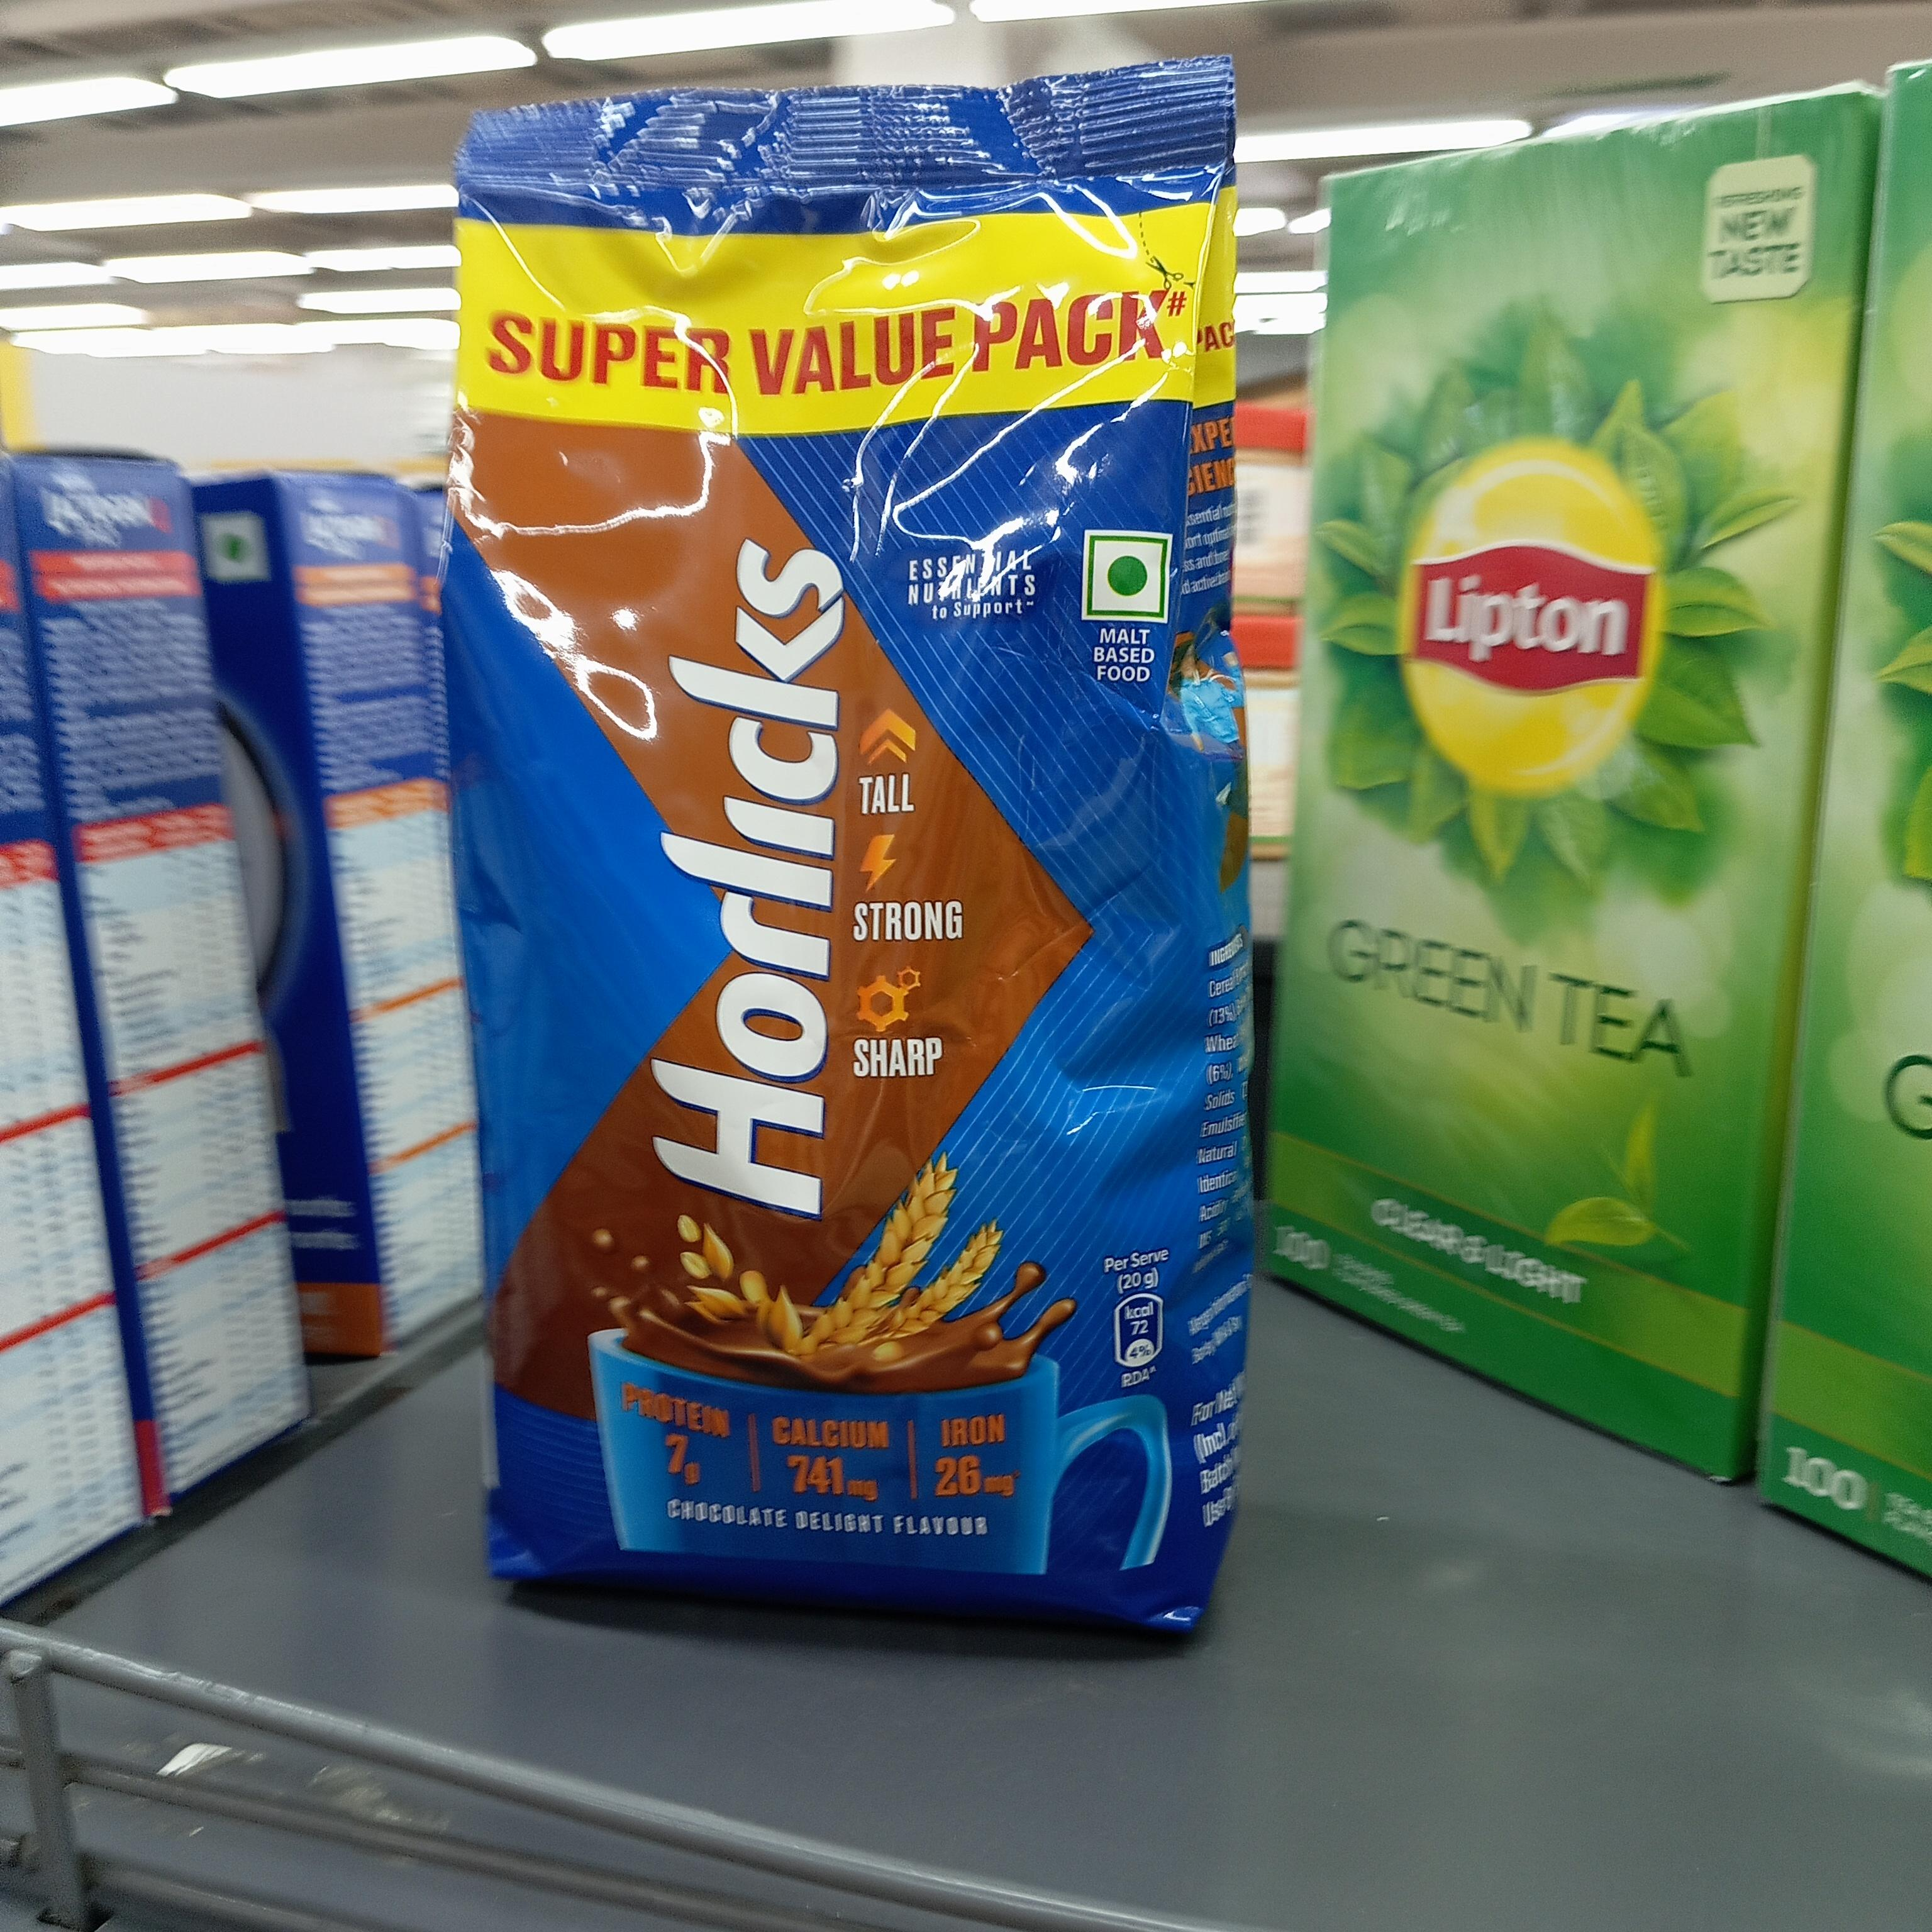HORLICK_CHOCOLATE_750_G_POUCH: (446, 113, 1189, 1617)
